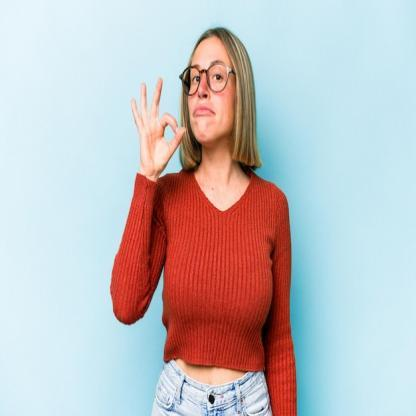ok: (128, 74, 187, 178)
